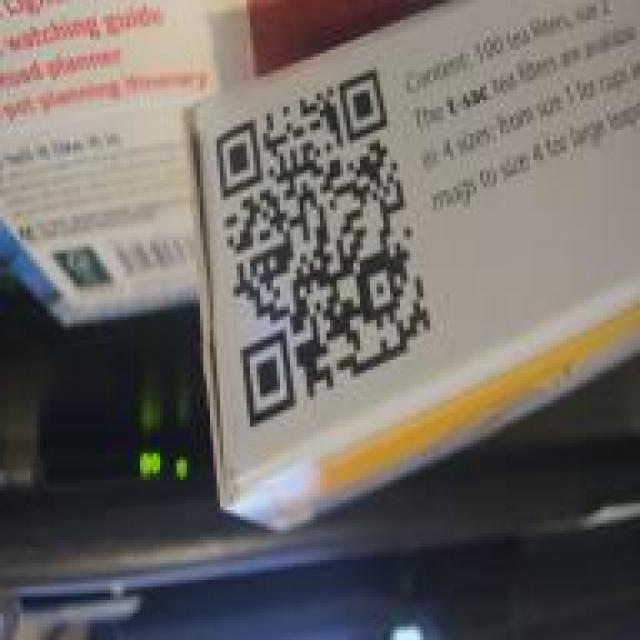QR_CODE: (202, 59, 440, 444)
